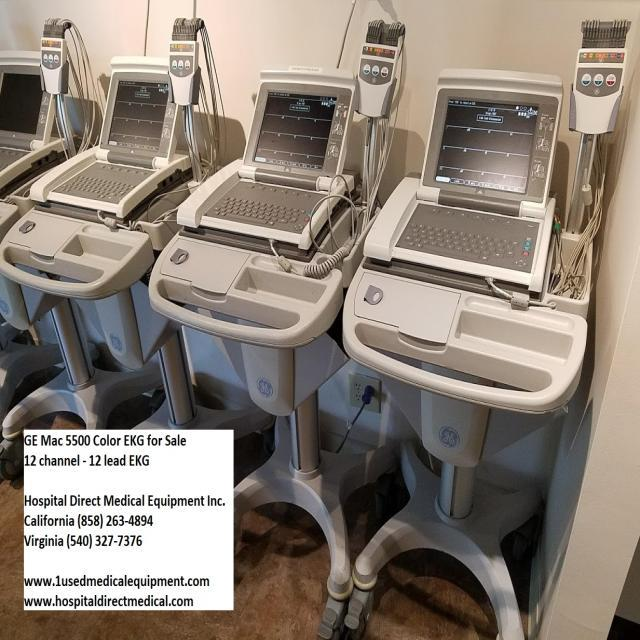Monitor: (354, 68, 602, 640), (148, 39, 370, 638), (0, 40, 188, 640)
